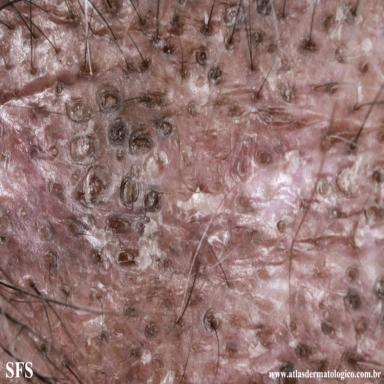Lupus-Erythematosus-Chronicus-Discoides: (0, 0, 384, 381)
